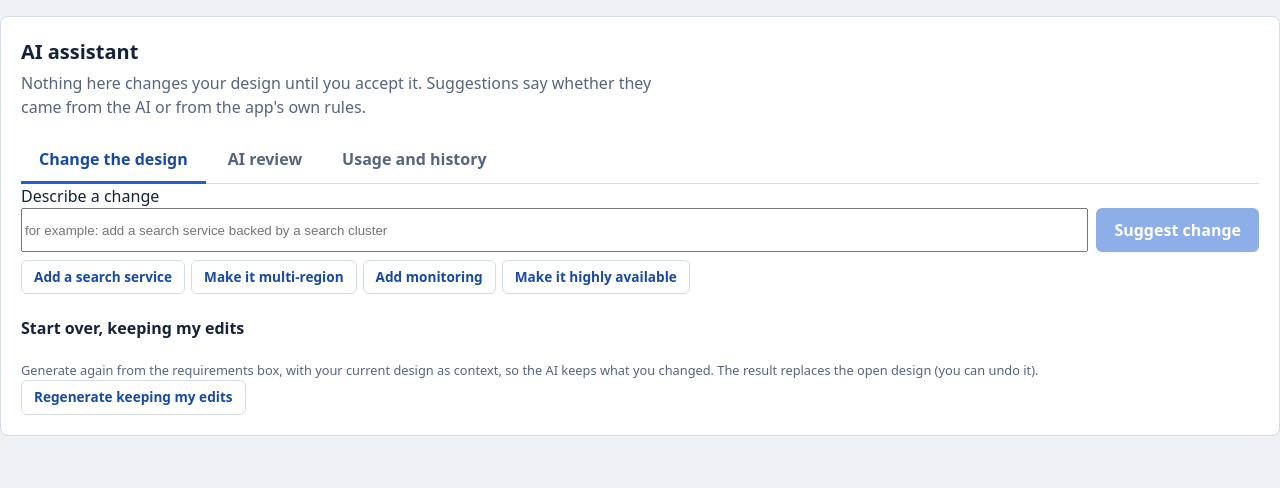
AI assistant: change the design › shows the server's message when the request fails
Type "add search" into the field labelled "Describe a change".
click(555, 230); type("add search")  # box [21,208,1088,252]
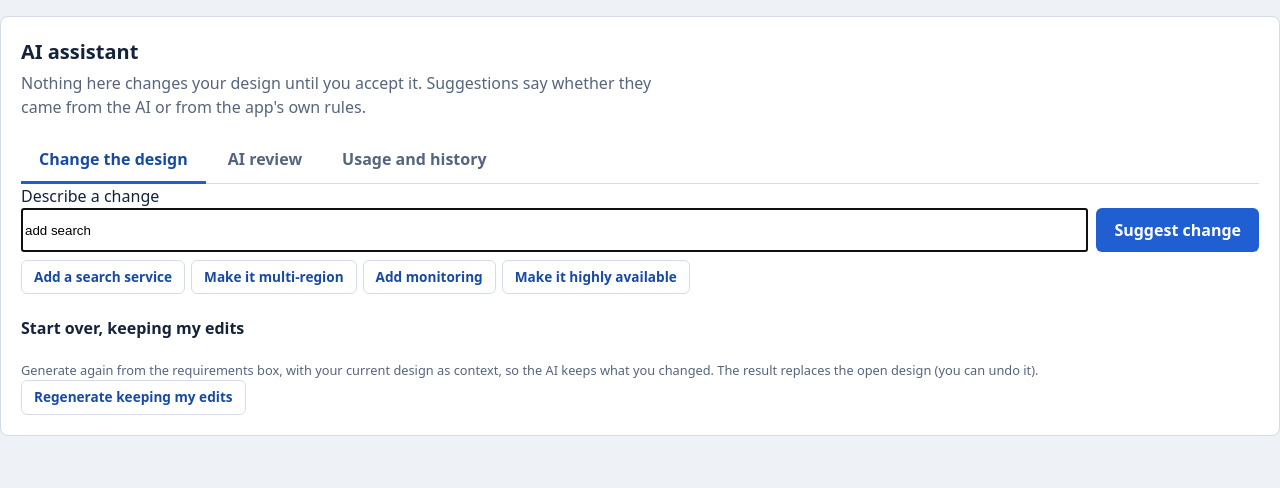
Click the button "Suggest change".
click(1178, 230)  # box [1096,208,1259,252]
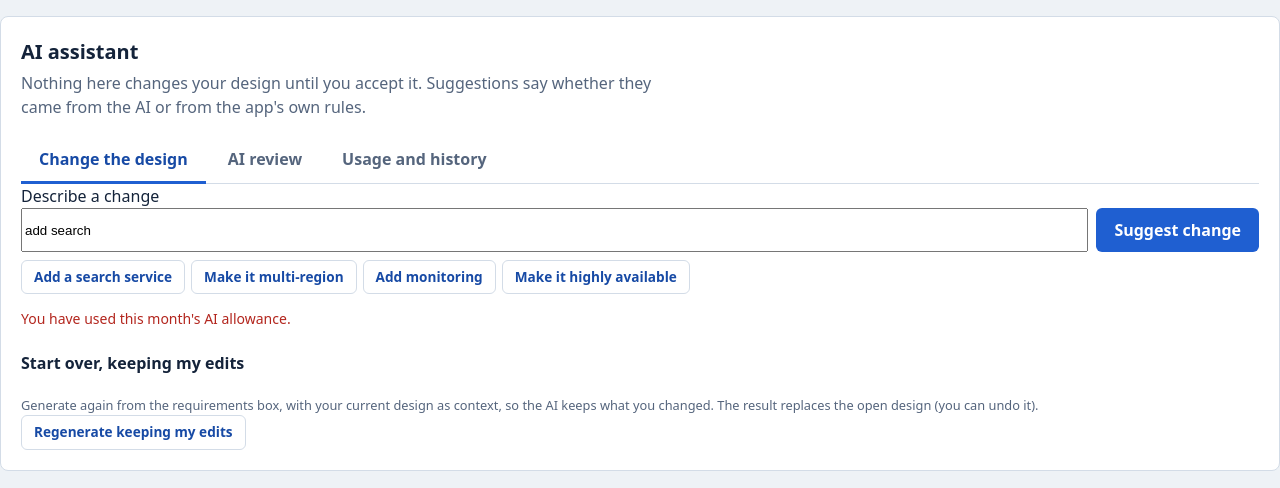
Expected: the button "Suggest change" is enabled, [1096,208,1259,252]
Expected: the message shows "allowance", [21,309,291,328]
